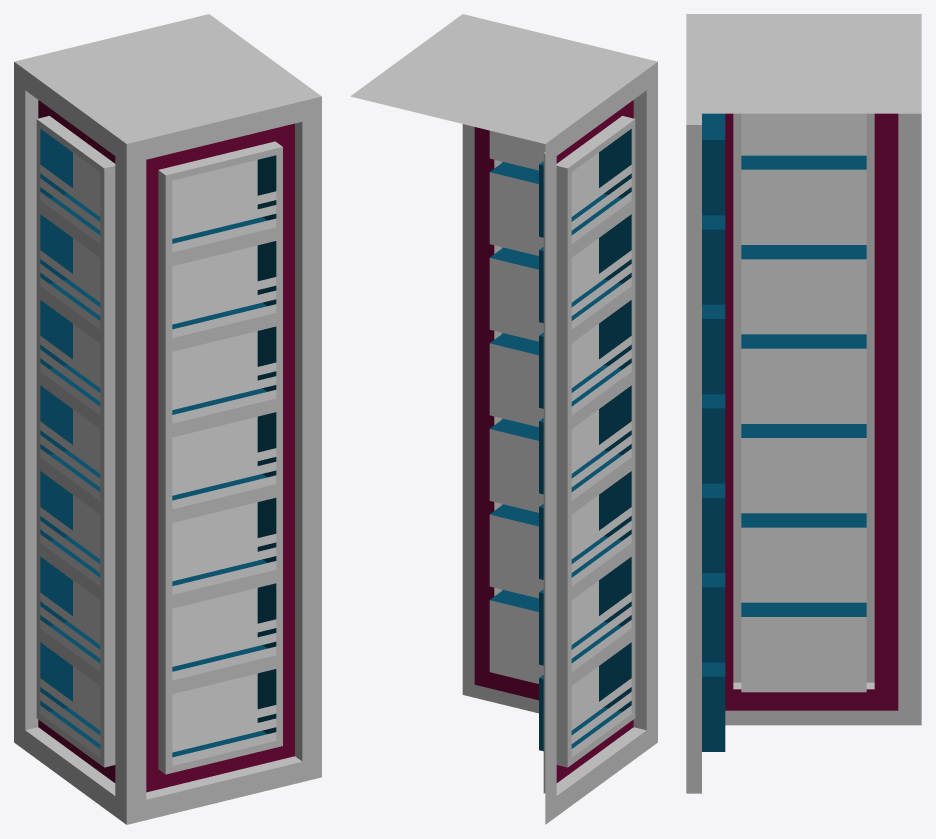
Rendered from Mod Build 4.fbx.
3 views of the same model, side by side, from view 1: azimuth 30°, elevation 25°; view 2: azimuth 150°, elevation 25°; view 3: azimuth 270°, elevation 25° (orthographic). The views are drawn at different scales.
Parts seen in each view (by area): view 1: Mod_B4_Main, Mod_B4_Balcony; view 2: Mod_B4_Main, Mod_B4_Balcony; view 3: Mod_B4_Main.
Boxes of the visible parts, x1,y1,x2,y2 form: Mod_B4_Main: (14,14,321,824); Mod_B4_Balcony: (40,165,276,765); Mod_B4_Main: (350,14,657,824); Mod_B4_Balcony: (571,165,631,757); Mod_B4_Main: (686,14,921,793).
Size of the model in its own units: 1500 by 5000 by 1500.
